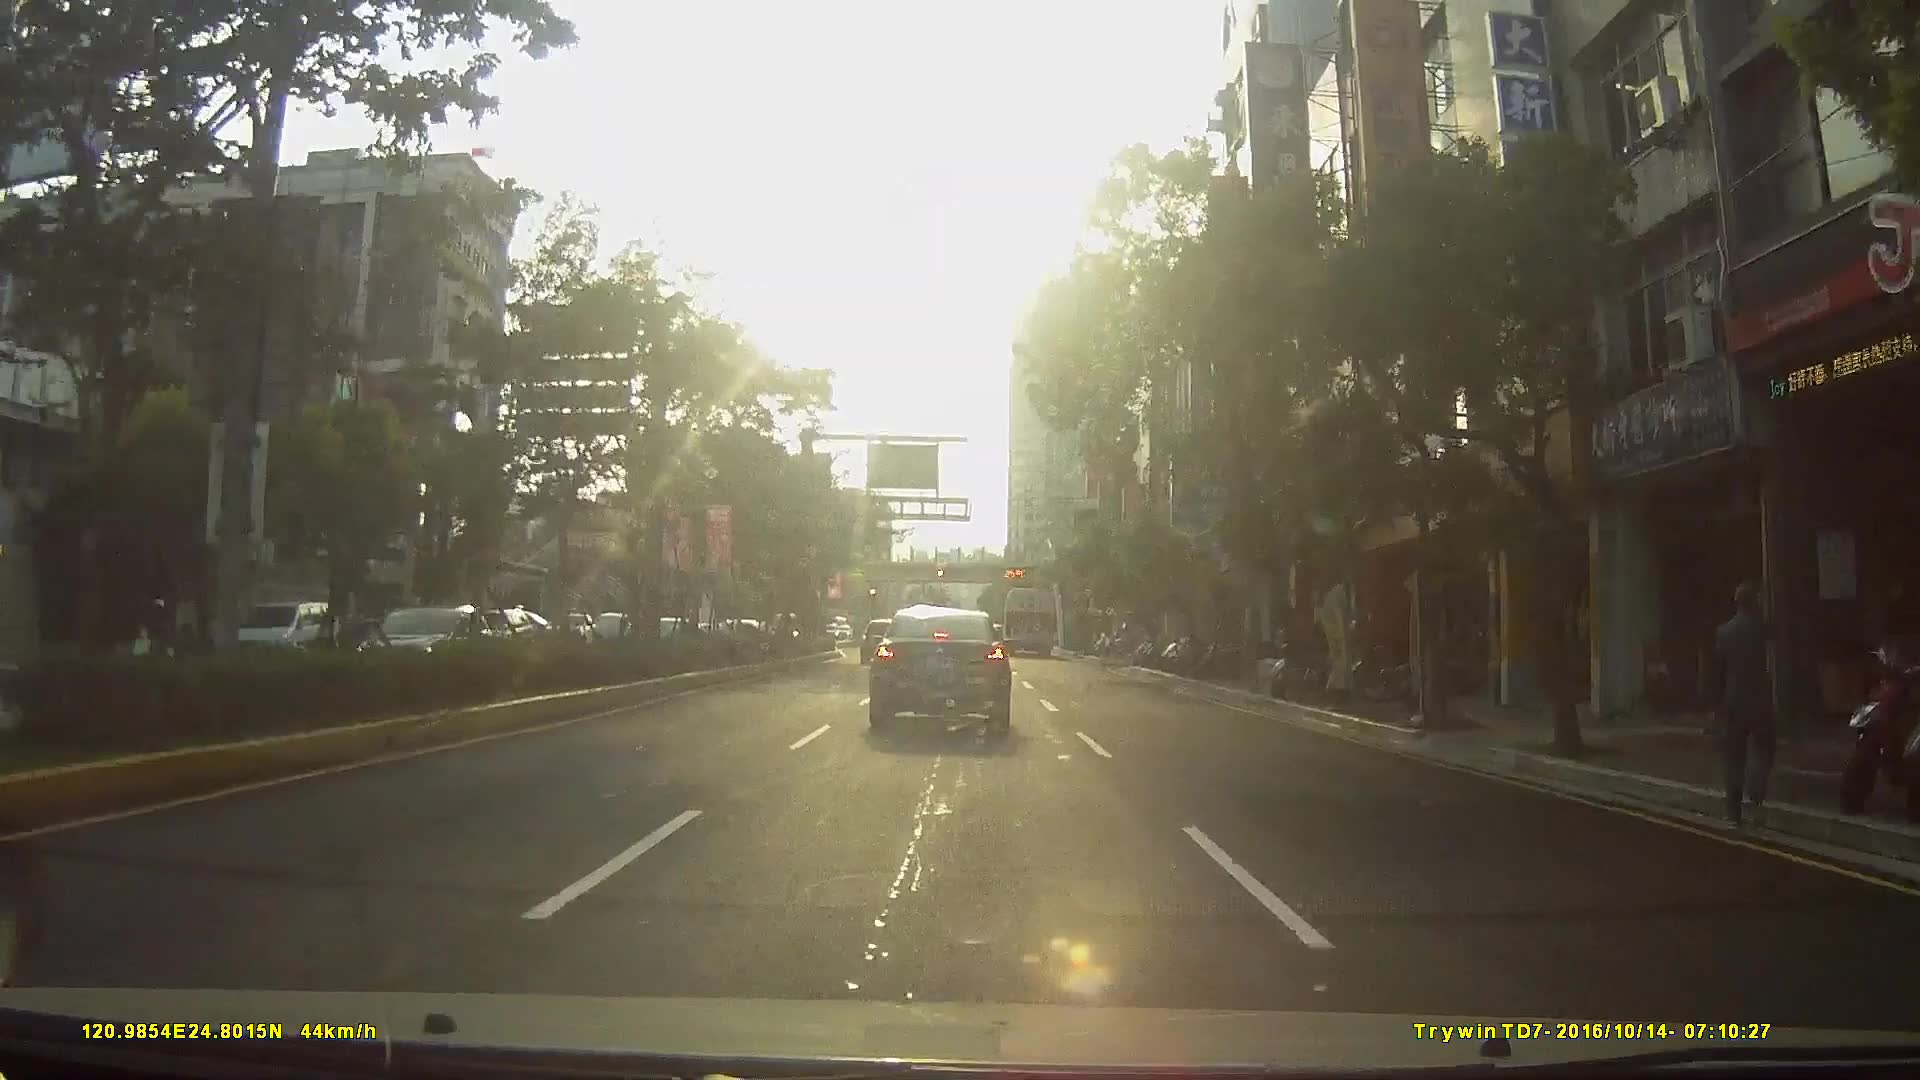pedestrian: (1708, 571, 1790, 835)
vehicle: (865, 600, 1013, 727), (355, 602, 505, 681), (218, 600, 336, 667), (998, 582, 1058, 651), (473, 605, 532, 647), (859, 617, 899, 660)
